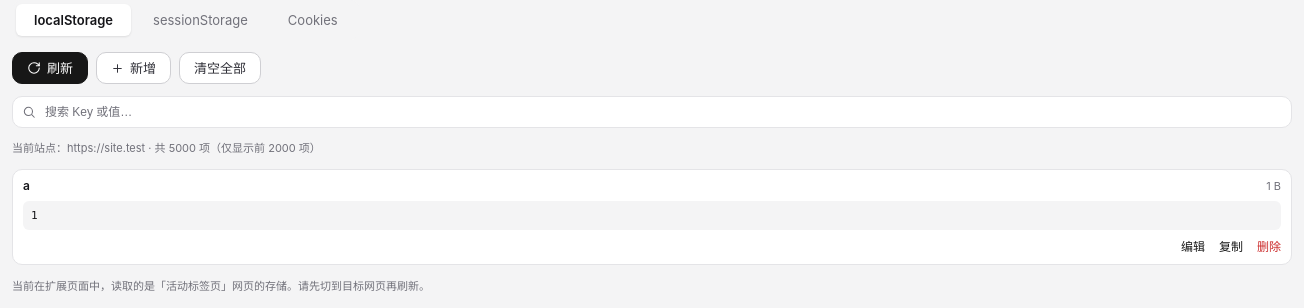
Test: StorageTool 存储浏览 › listTruncated 提示只列出前 2000 项，session 区域附「仅当前会话有效」说明
This screenshot has width=1304, height=308.
Step 1. Click the tab "sessionStorage" → (200, 20), box x1=135 y1=4 x2=266 y2=36
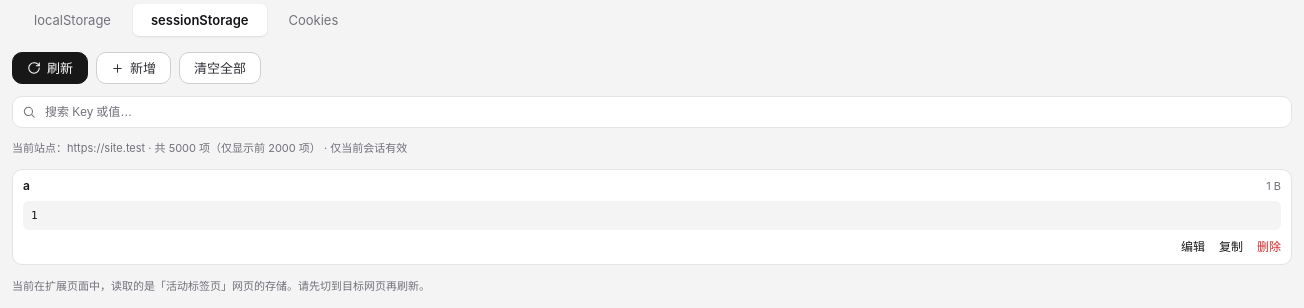
Expected: the message with class "tw-store__summary" shows "（仅显示前 2000 项）", x1=210 y1=141 x2=321 y2=155
Expected: the message with class "tw-store__summary" shows "仅当前会话有效", x1=321 y1=141 x2=407 y2=155
